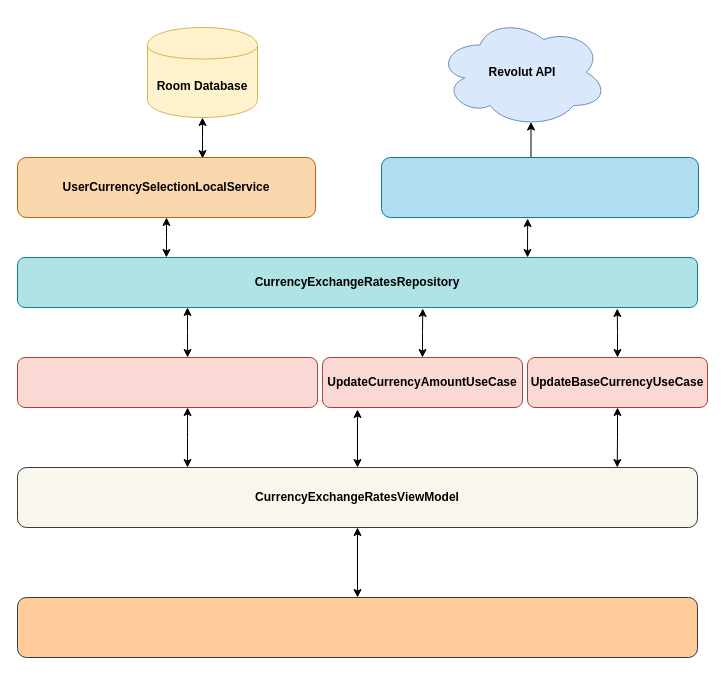
Image size: 725x675. Some labels were removed from this diagram. Each missing label, with the centre of its shape:
"CurrencyExchangeRatesActivity" belongs at point 357,627.
"CurrencyExchangeRatesRemoteService" belongs at point 539,187.
"ObserveUserCurrencyExchangeRatesListUseCase" belongs at point 167,382.
